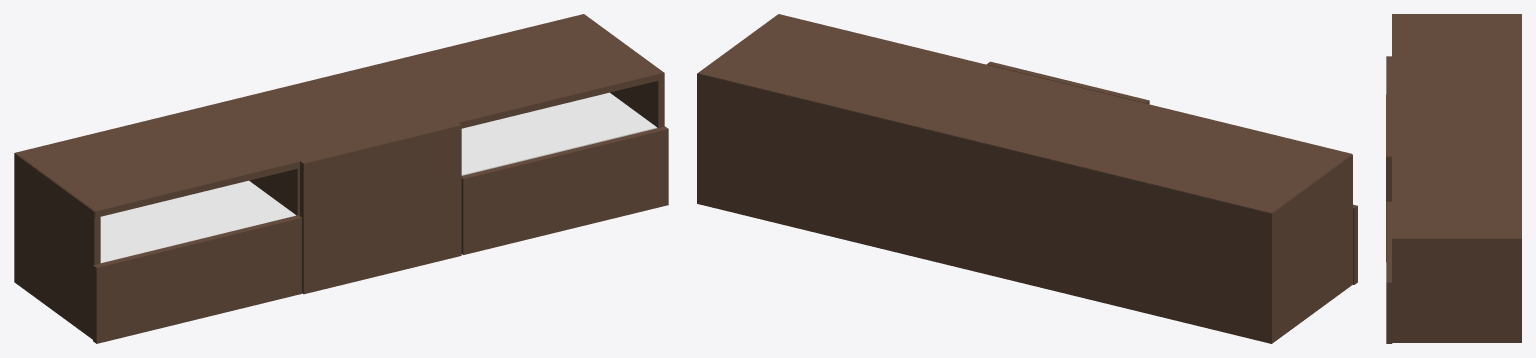
3 renders of one model, left to right at view 1: azimuth 30°, elevation 25°; view 2: azimuth 150°, elevation 25°; view 3: azimuth 270°, elevation 25°, orthographic. The views are drawn at different scales.
Visible parts, largest first — view 1: Cube.005, Cube.009, Cube.011, Cube.010, Cube.008, Cube.003, Cube.002, Cube.006; view 2: Cube.001, Cube.005, Cube.003, Cube.009; view 3: Cube.005, Cube.002, Cube.010, Cube.009, Cube.011, Cube.001.
Boxes of the visible parts, bbox=[...] form: Cube.005: bbox=[15, 14, 663, 217]; Cube.009: bbox=[300, 122, 461, 294]; Cube.011: bbox=[93, 215, 301, 343]; Cube.010: bbox=[461, 126, 668, 254]; Cube.008: bbox=[100, 92, 657, 263]; Cube.003: bbox=[14, 153, 100, 339]; Cube.002: bbox=[584, 14, 664, 127]; Cube.006: bbox=[249, 168, 299, 215]; Cube.001: bbox=[697, 74, 1270, 343]; Cube.005: bbox=[698, 14, 1352, 213]; Cube.003: bbox=[1266, 154, 1352, 343]; Cube.009: bbox=[986, 61, 1149, 104]; Cube.005: bbox=[1392, 14, 1521, 238]; Cube.002: bbox=[1392, 236, 1521, 342]; Cube.010: bbox=[1386, 201, 1392, 343]; Cube.009: bbox=[1386, 94, 1391, 261]; Cube.011: bbox=[1386, 56, 1391, 94]; Cube.001: bbox=[1521, 17, 1521, 235].
Bounding box in the file's own units: 1.81 × 0.395 × 0.461.
